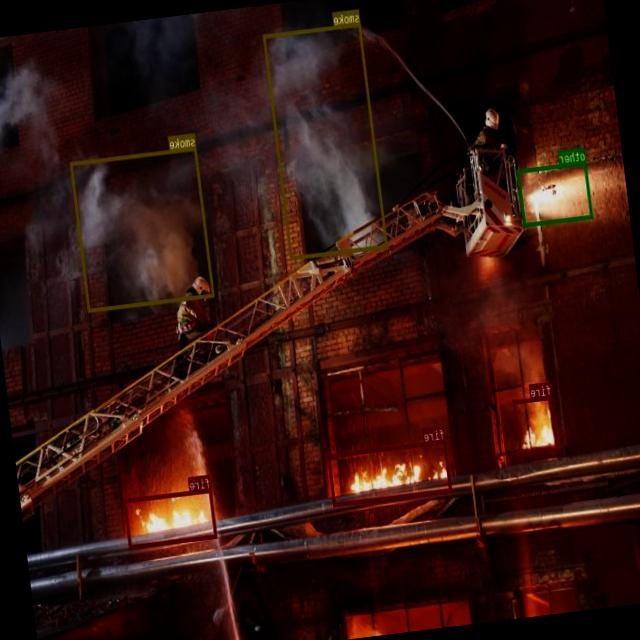fire: (327, 438, 453, 505), (124, 488, 218, 548), (512, 394, 560, 454)
smoke: (263, 22, 388, 258), (70, 146, 215, 312)
